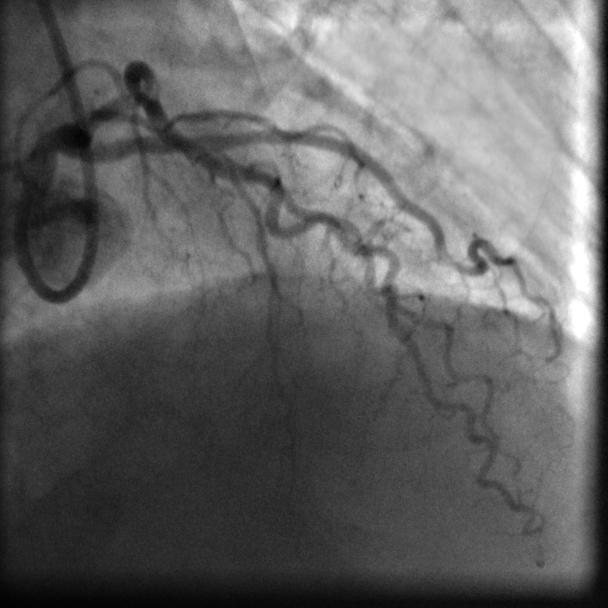Stenosis: (120, 77, 157, 106)
